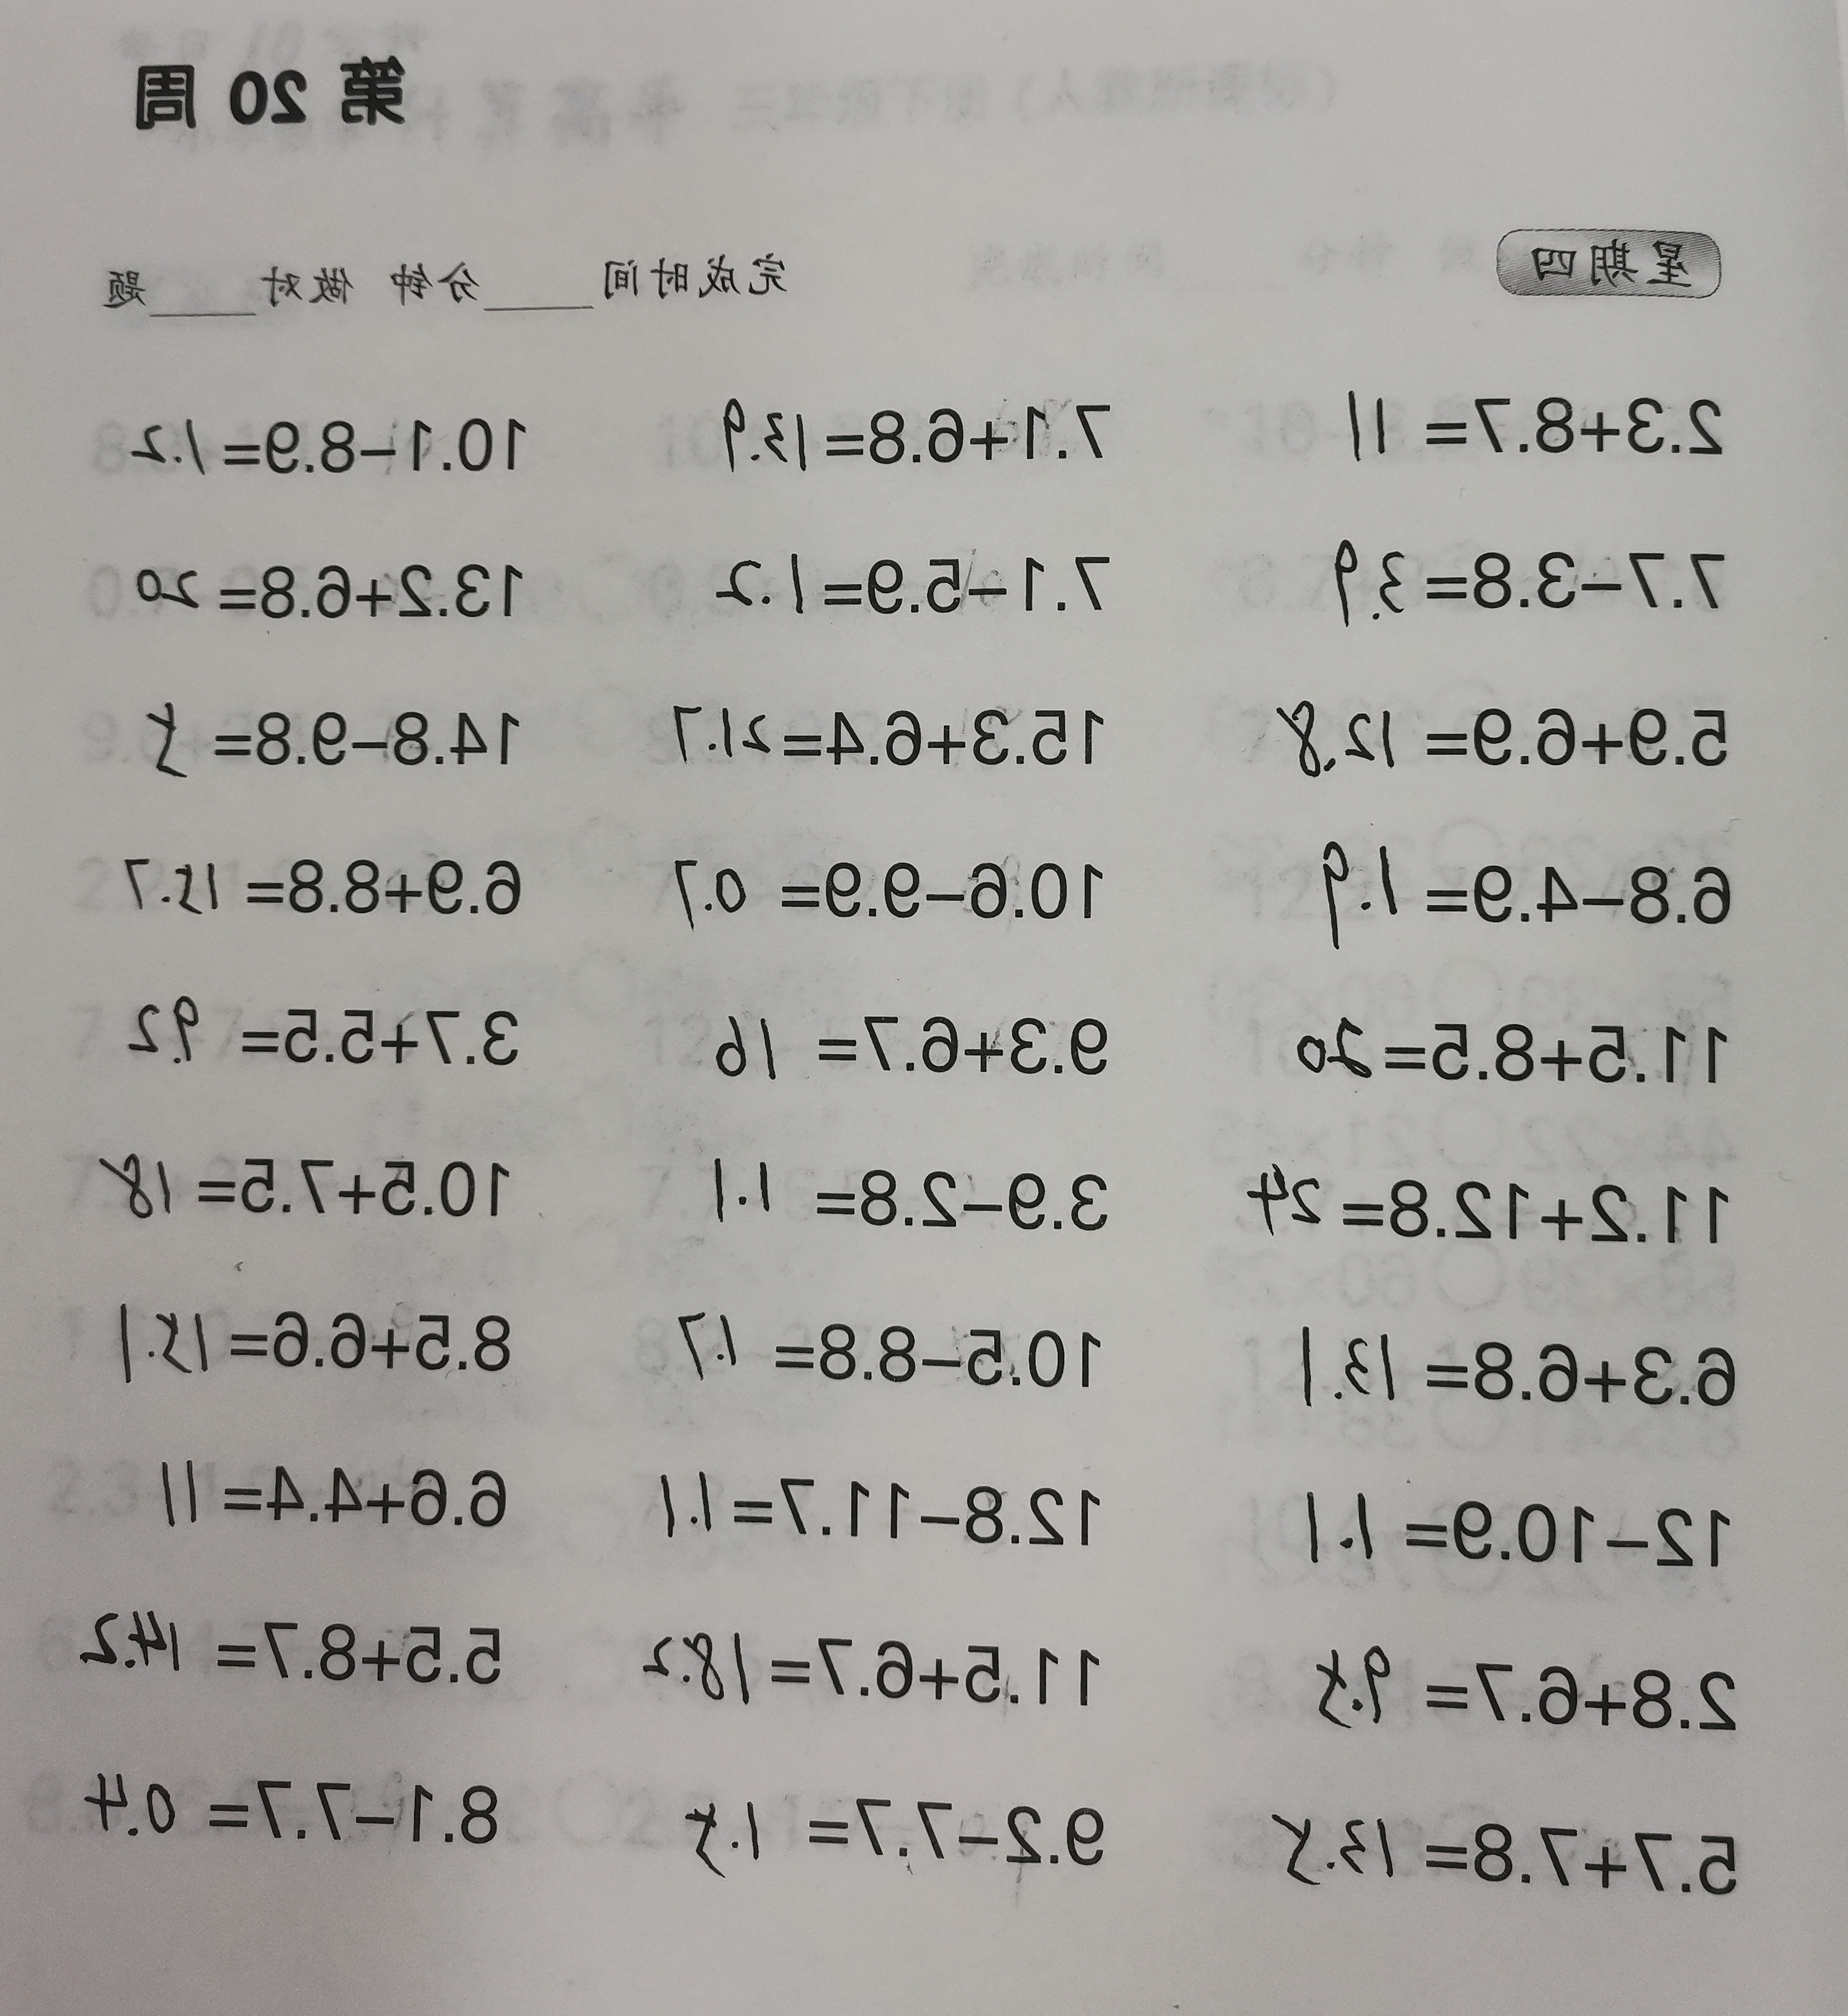equation: (655, 1774, 1128, 1912), (95, 351, 542, 497), (54, 1749, 532, 1884), (1278, 1454, 1736, 1595), (634, 1438, 1125, 1568), (1276, 662, 1755, 794), (1271, 1296, 1758, 1422), (614, 1609, 1132, 1726), (1257, 1793, 1751, 1916), (648, 1280, 1116, 1408), (1269, 976, 1764, 1098), (1300, 513, 1755, 644), (65, 1271, 526, 1400), (1225, 1148, 1751, 1259), (1293, 1626, 1760, 1751), (1299, 827, 1753, 952), (112, 671, 548, 801), (695, 516, 1137, 641), (641, 827, 1128, 940), (46, 1586, 523, 1700), (706, 364, 1127, 490), (695, 975, 1132, 1094), (1311, 342, 1741, 464), (684, 1124, 1120, 1243), (653, 673, 1109, 783), (104, 825, 539, 940), (79, 1126, 521, 1236), (100, 973, 546, 1082), (97, 536, 539, 641), (140, 1433, 519, 1554)
